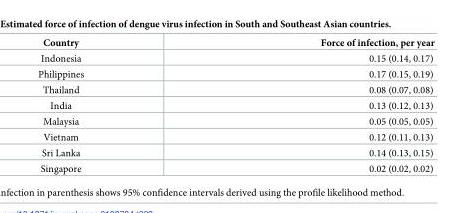table: (37, 37, 433, 173)
table column: (201, 37, 433, 173), (37, 37, 201, 173)
table column header: (37, 37, 433, 50)
table row: (37, 50, 433, 66), (37, 81, 433, 97), (37, 97, 433, 113), (37, 113, 433, 129), (37, 144, 433, 160), (37, 66, 433, 81), (37, 129, 433, 144), (37, 37, 433, 50), (37, 160, 433, 173)
